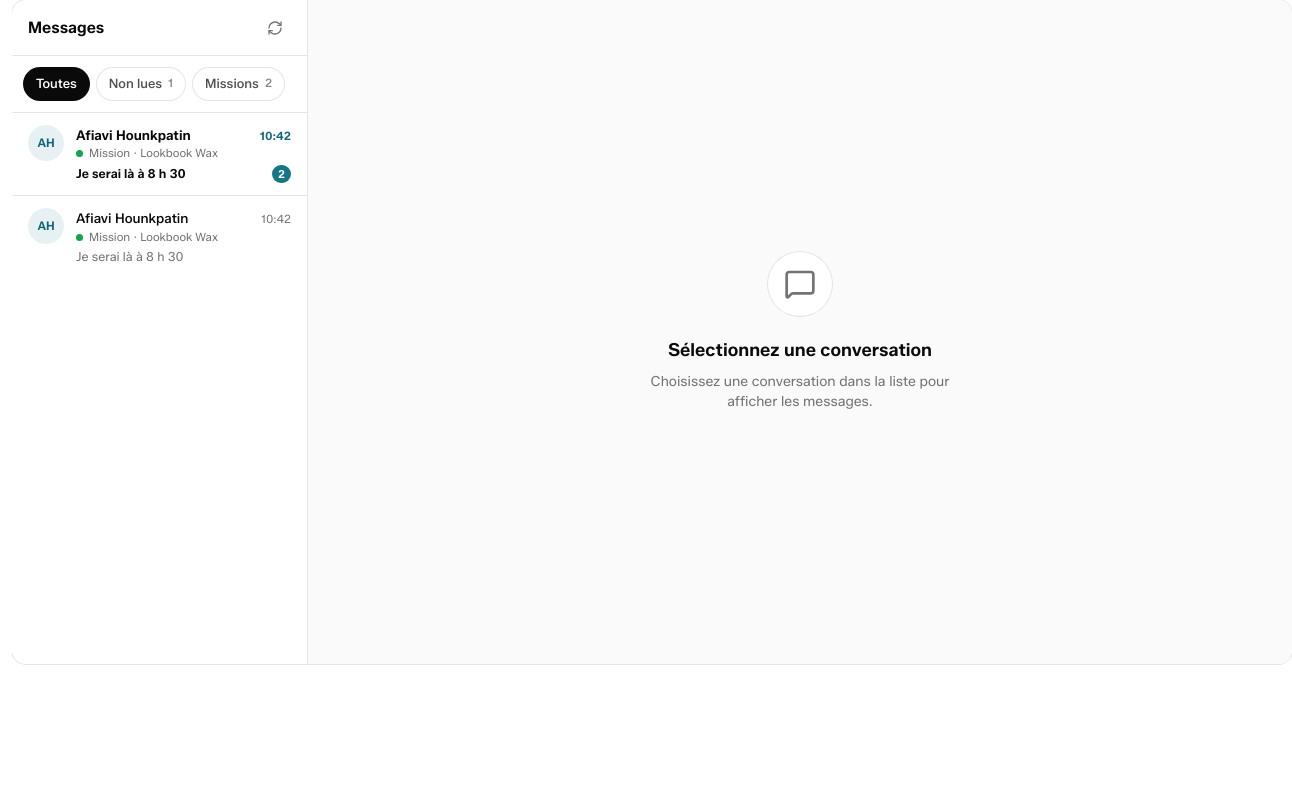
Test: MessagesWorkspace — desktop › sélectionner une conversation charge le fil et le panneau Face (montants nets), sans changer de route
What coordinates should you click on to do the following:
click the button with test id "conversation-item"
I would click on:
 (160, 154)
Its box is [12,113,307,195].
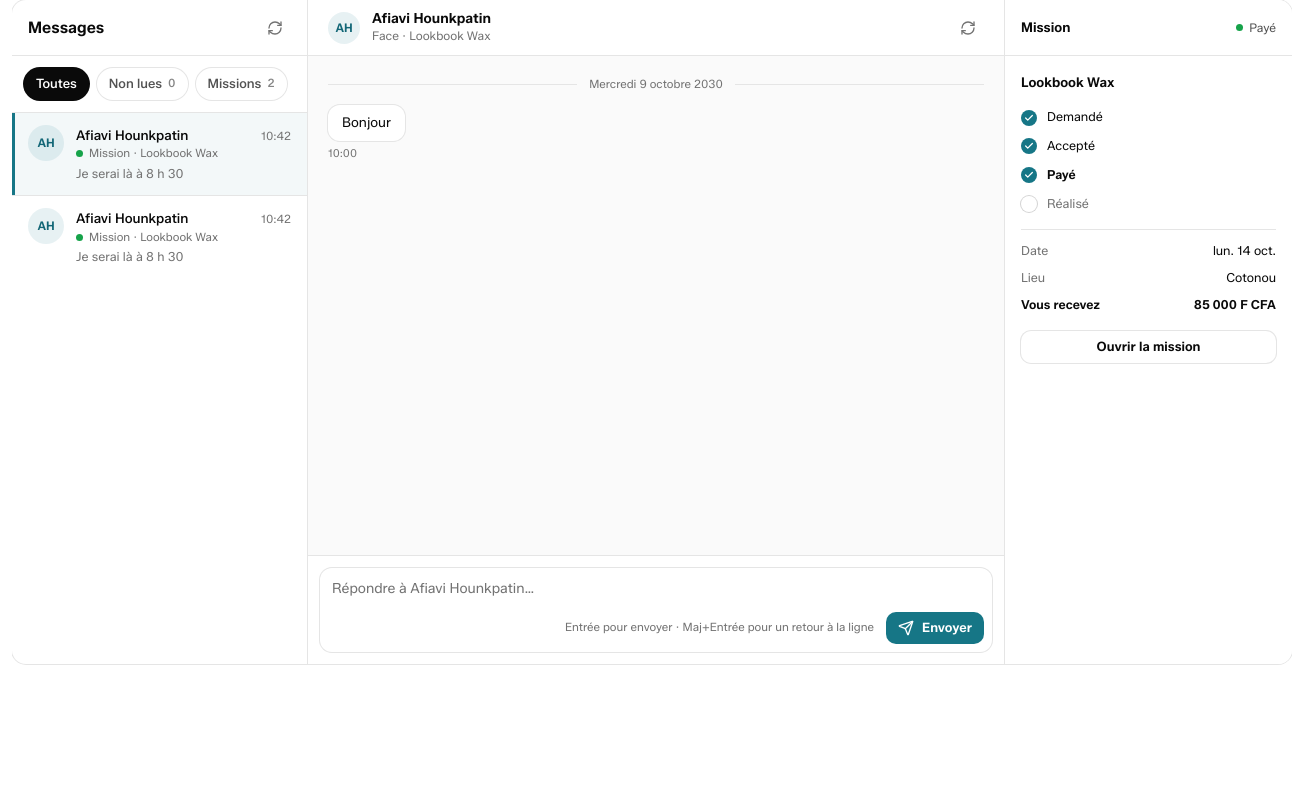
Result: the element with test id "message-thread" is shown at [308,0,1004,664]
Result: the element with test id "conversation-context-panel" shows "Vous recevez" at [1021,297,1100,312]
